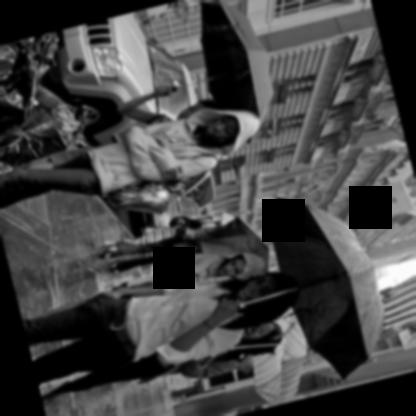handbag: (107, 182, 175, 215), (173, 227, 210, 240), (168, 216, 201, 228), (126, 281, 164, 289)
